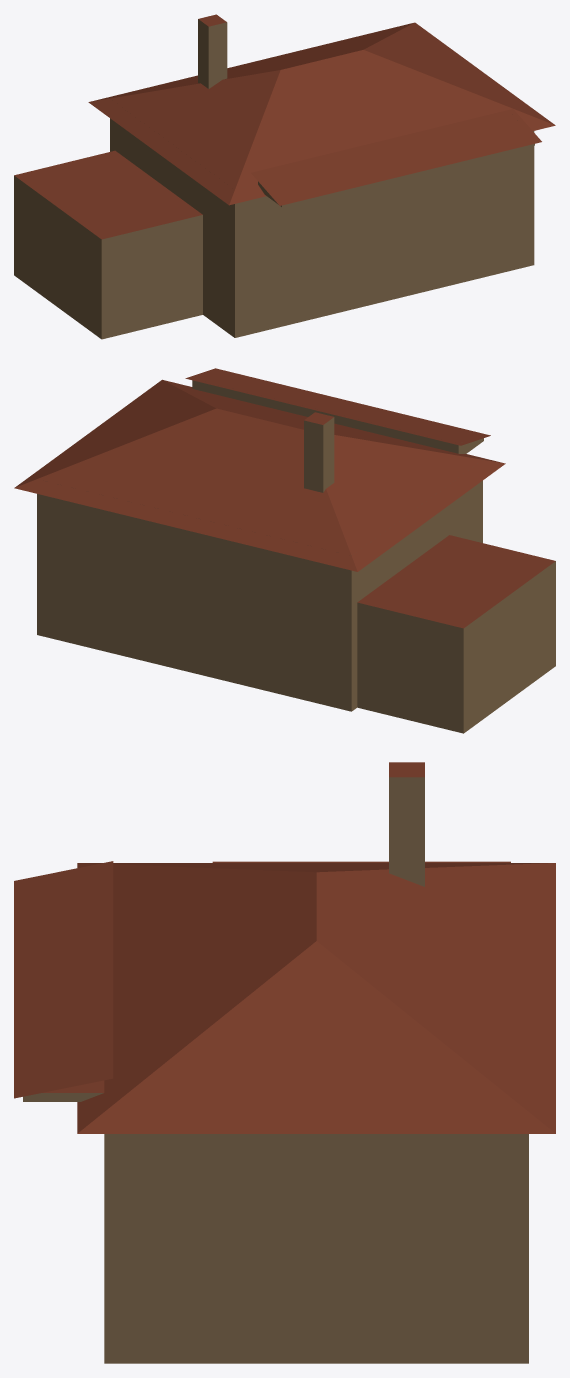
File: cr-hacienda.far-facades-v3.lod2.glb
The picture shows the model from 3 angles, top to bottom: view 1: azimuth 30°, elevation 25°; view 2: azimuth 150°, elevation 25°; view 3: azimuth 270°, elevation 25°; orthographic projection. The views are drawn at different scales.
Parts seen in each view (by area): view 1: cr-hacienda; view 2: cr-hacienda; view 3: cr-hacienda.
Boxes of the visible parts, <box> form: cr-hacienda: <box>14,14,555,339</box>; cr-hacienda: <box>14,368,555,733</box>; cr-hacienda: <box>14,762,555,1363</box>.
Bounding box in the file's own units: 18 × 9.8 × 12.
